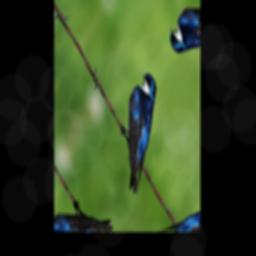Swallow: (101, 65, 181, 199)
